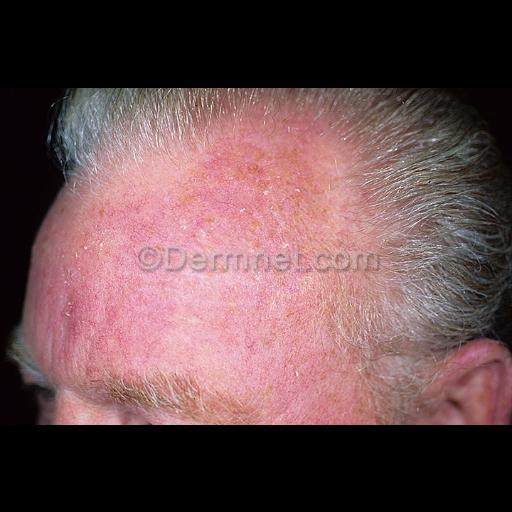Skin_Lesion: (202, 195, 250, 219), (242, 150, 274, 184), (239, 319, 261, 353), (100, 301, 120, 325), (290, 184, 308, 198)
